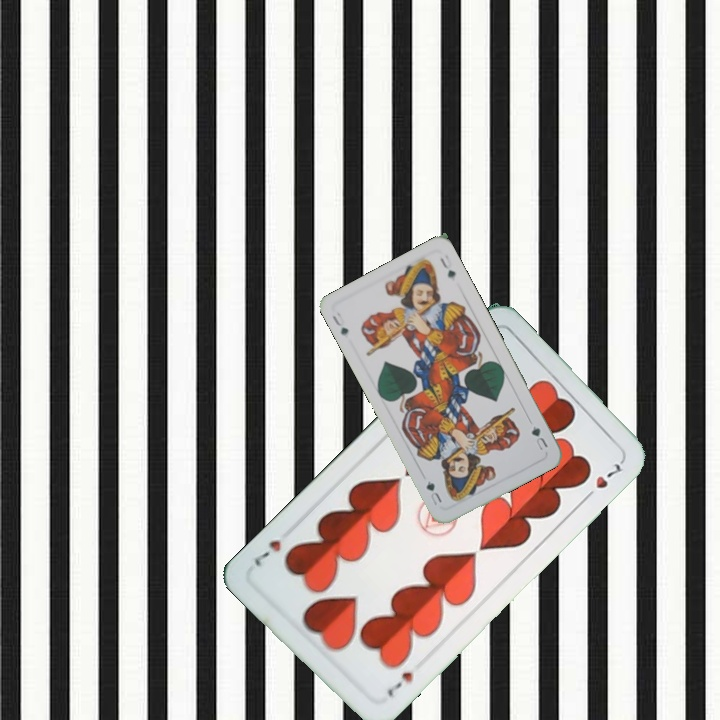GU: (527, 422, 551, 454), (328, 308, 351, 339)
H7: (383, 668, 417, 700)
